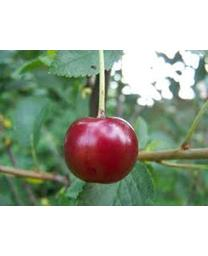cherry: (64, 116, 138, 184)
